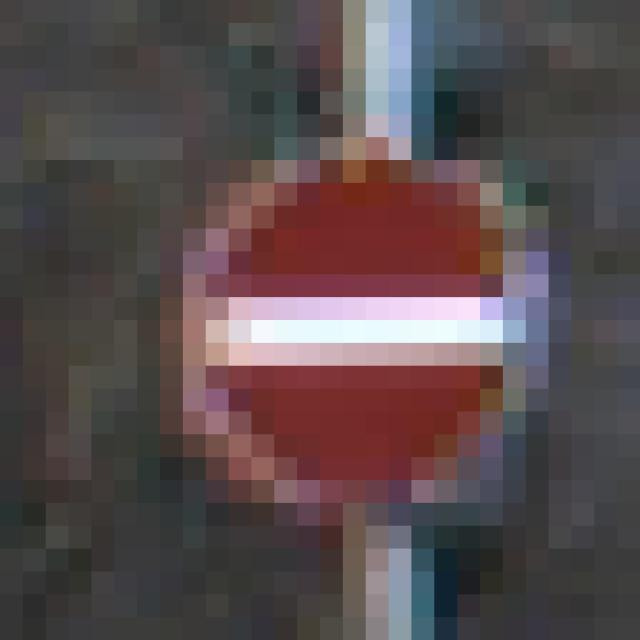No Entry: (115, 115, 527, 527)
